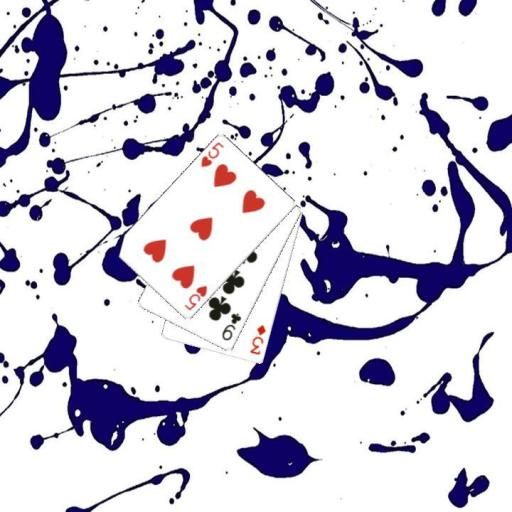3D: (247, 322, 267, 357)
5H: (198, 139, 225, 169), (182, 283, 209, 312)
9C: (219, 310, 243, 342)
